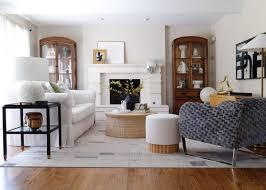chair: (179, 101, 266, 166), (149, 114, 180, 156)
light: (9, 53, 49, 104), (238, 28, 266, 98), (146, 61, 163, 73), (96, 14, 111, 22), (143, 15, 154, 21)
sofa: (0, 81, 97, 146)
table: (1, 100, 60, 162), (103, 111, 150, 140), (201, 93, 251, 106), (146, 102, 172, 113)
